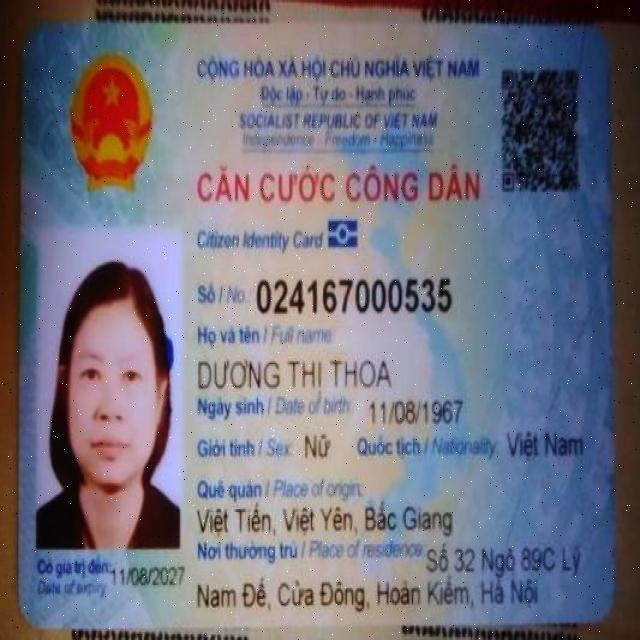current_place: (193, 575, 546, 613), (422, 539, 589, 577)
dob: (367, 398, 465, 426)
expire_date: (109, 565, 191, 588)
gender: (302, 424, 336, 467)
id: (252, 272, 454, 314)
name: (194, 352, 394, 395)
nationality: (504, 426, 588, 461)
origin_place: (194, 498, 454, 537)
qr: (496, 60, 590, 203)
